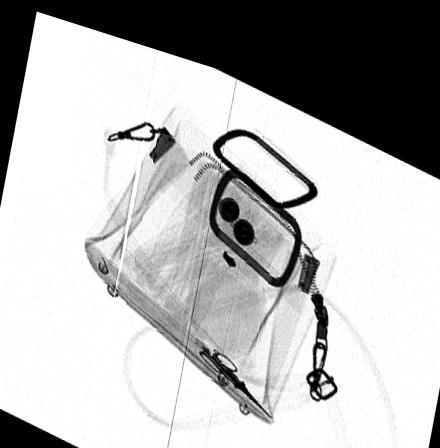Scissors: (196, 337, 271, 400)
